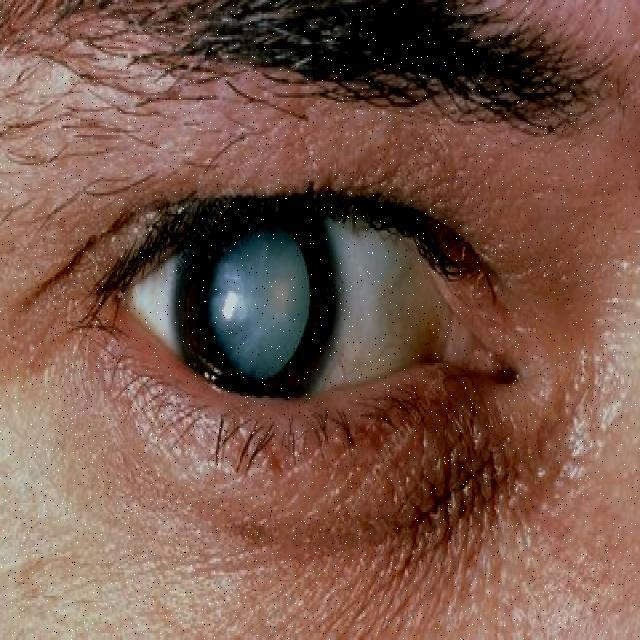Cataract: (134, 190, 373, 408)
